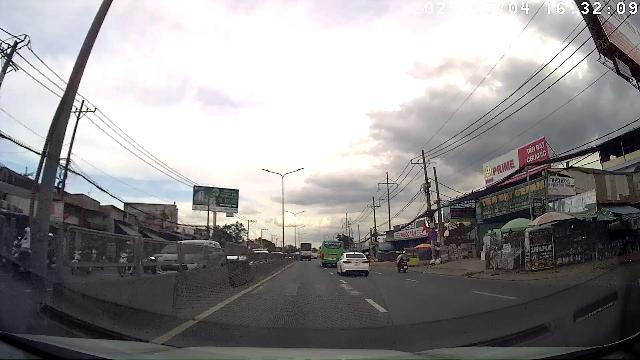130-cam-dung-va-do-xe: (428, 230, 438, 241)
